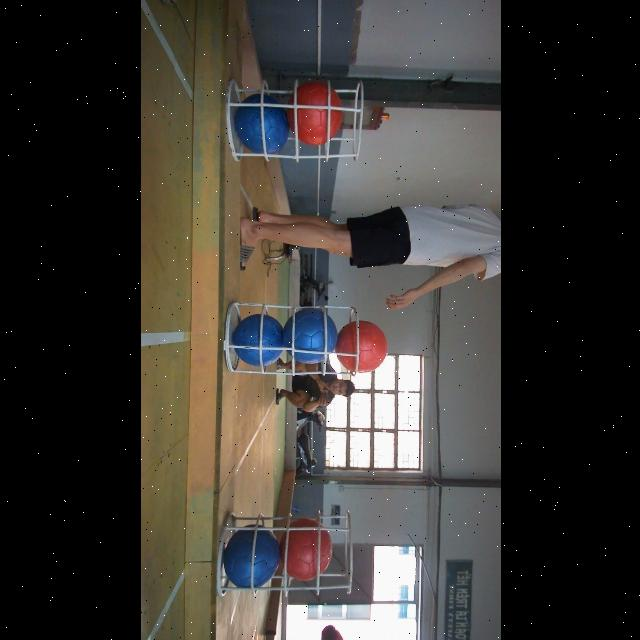B: (222, 525, 280, 589), (234, 92, 288, 154), (281, 308, 337, 364), (232, 314, 284, 366)
R: (286, 82, 342, 146), (278, 516, 332, 580), (336, 320, 386, 372)
